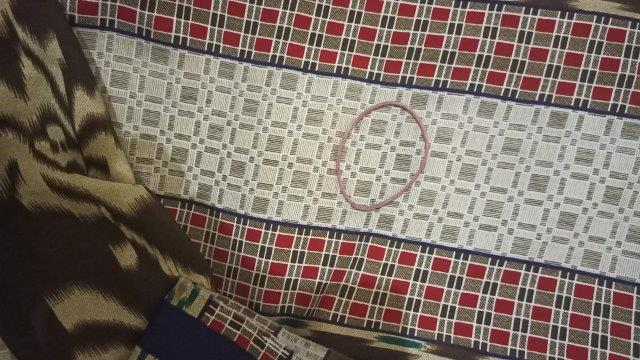karet: (336, 101, 429, 211)
